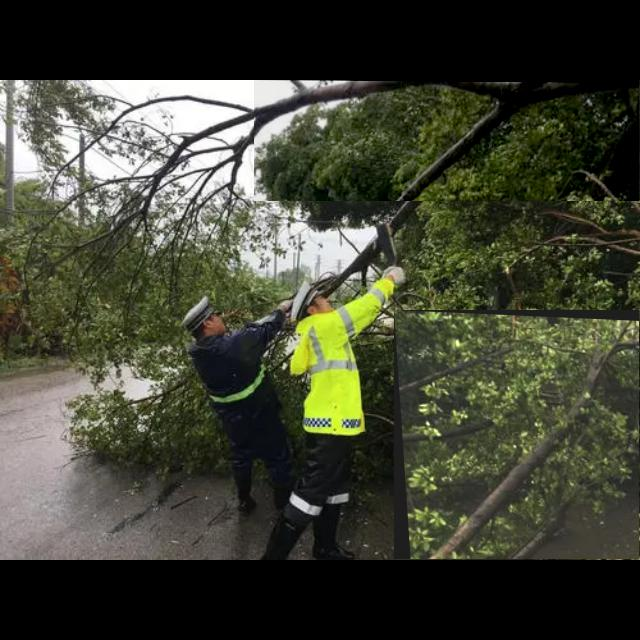Fallen Tree: (394, 310, 640, 560), (254, 80, 640, 202)
